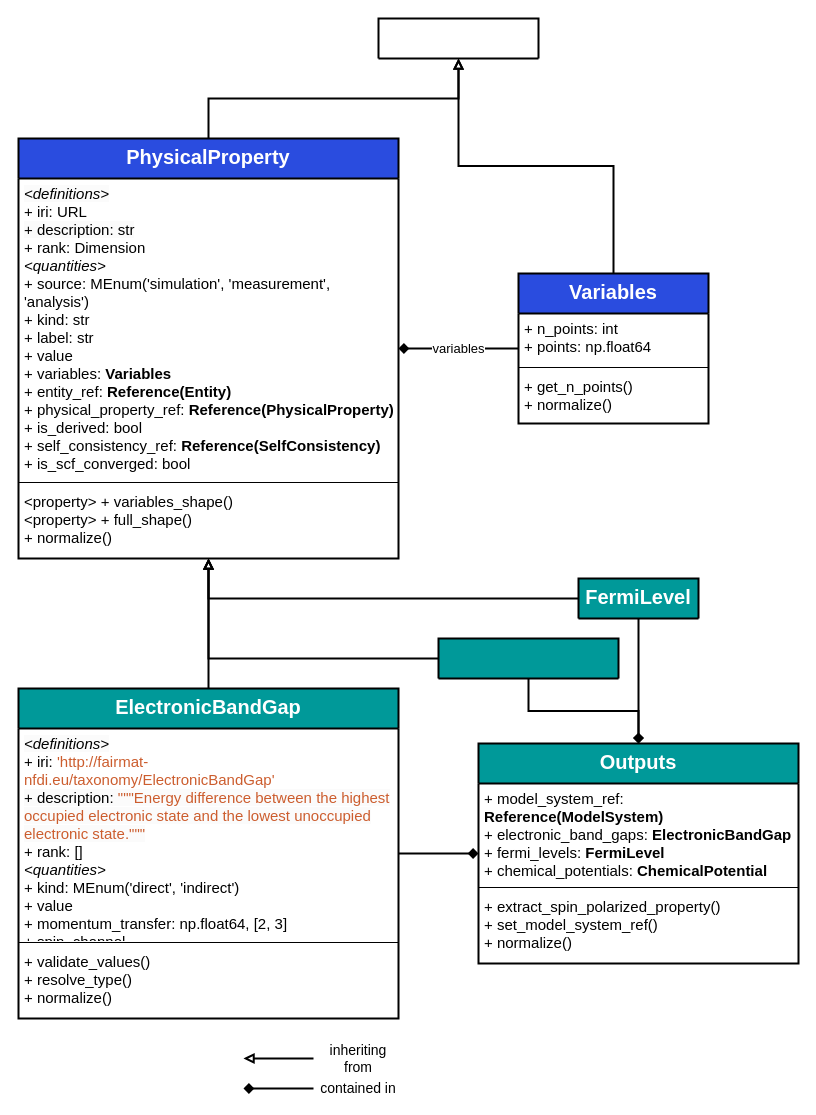
Some shapes in this 816 by 1115 pixel diagram are drawn without their labels. Each missing label, with the centre of its shape:
ArchiveSection: point 458,38
ChemicalPotential: point 528,658
